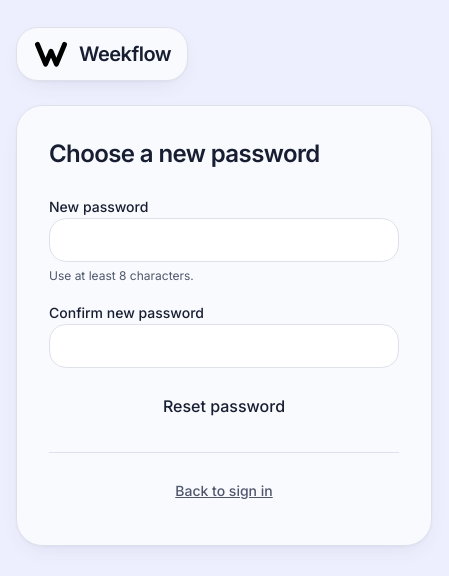
it: authentication screens › validates matching passwords and resets only on submission
In the password field labelled "New password": (224, 240) [49,218,399,262], type "password123"
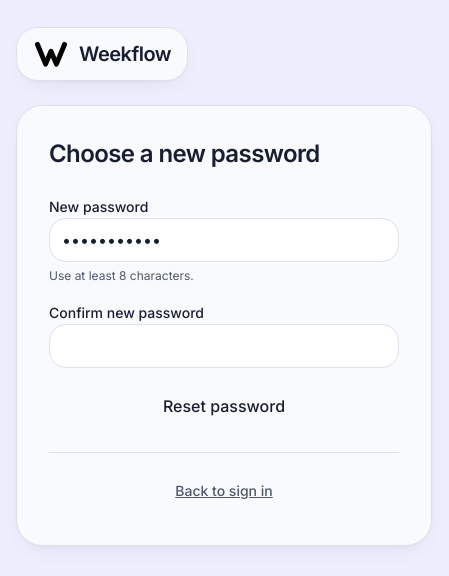
In the password field labelled "Confirm new password": (224, 346) [49,324,399,368], type "different"
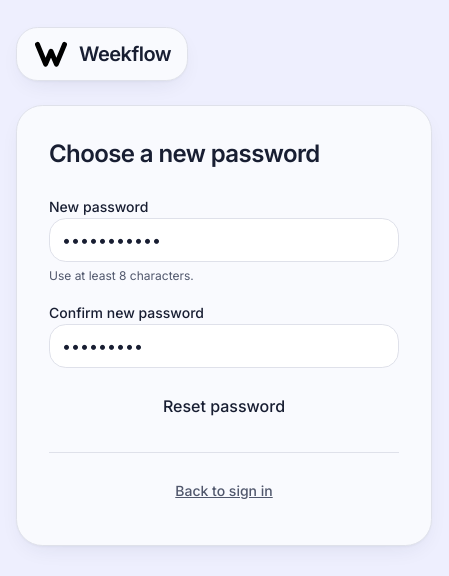
Click the button "Reset password": click(224, 406) [49,384,399,428]
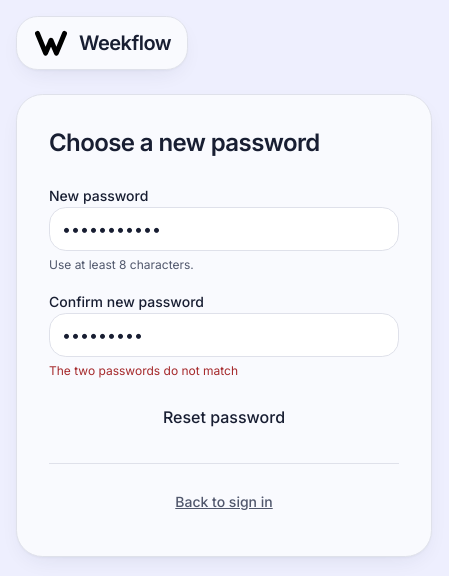
Check: the text "The two passwords do not match" is shown, box [49,362,238,378]
In the password field labelled "Confirm new password": (224, 334) [49,312,399,356], type "password123"
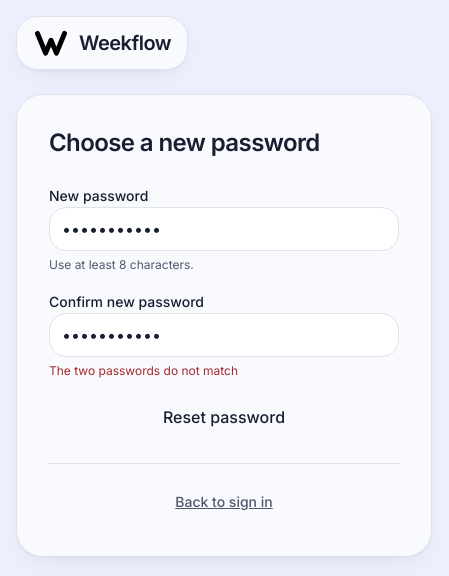
Click the button "Reset password": click(224, 416) [49,394,399,438]
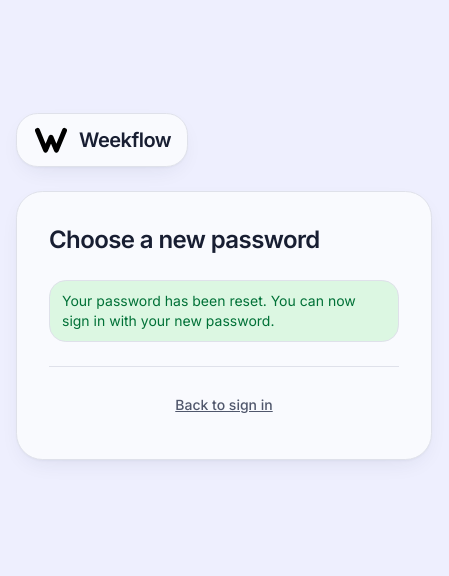
Check: the text "Your password has been reset. You can now sign in with your new password." is shown, box [49,280,399,342]
